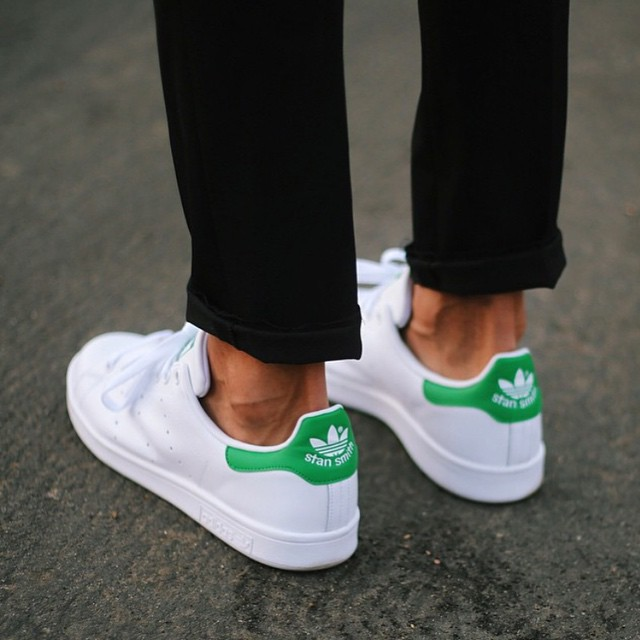sneaker: (41, 266, 382, 593), (315, 231, 564, 528)
